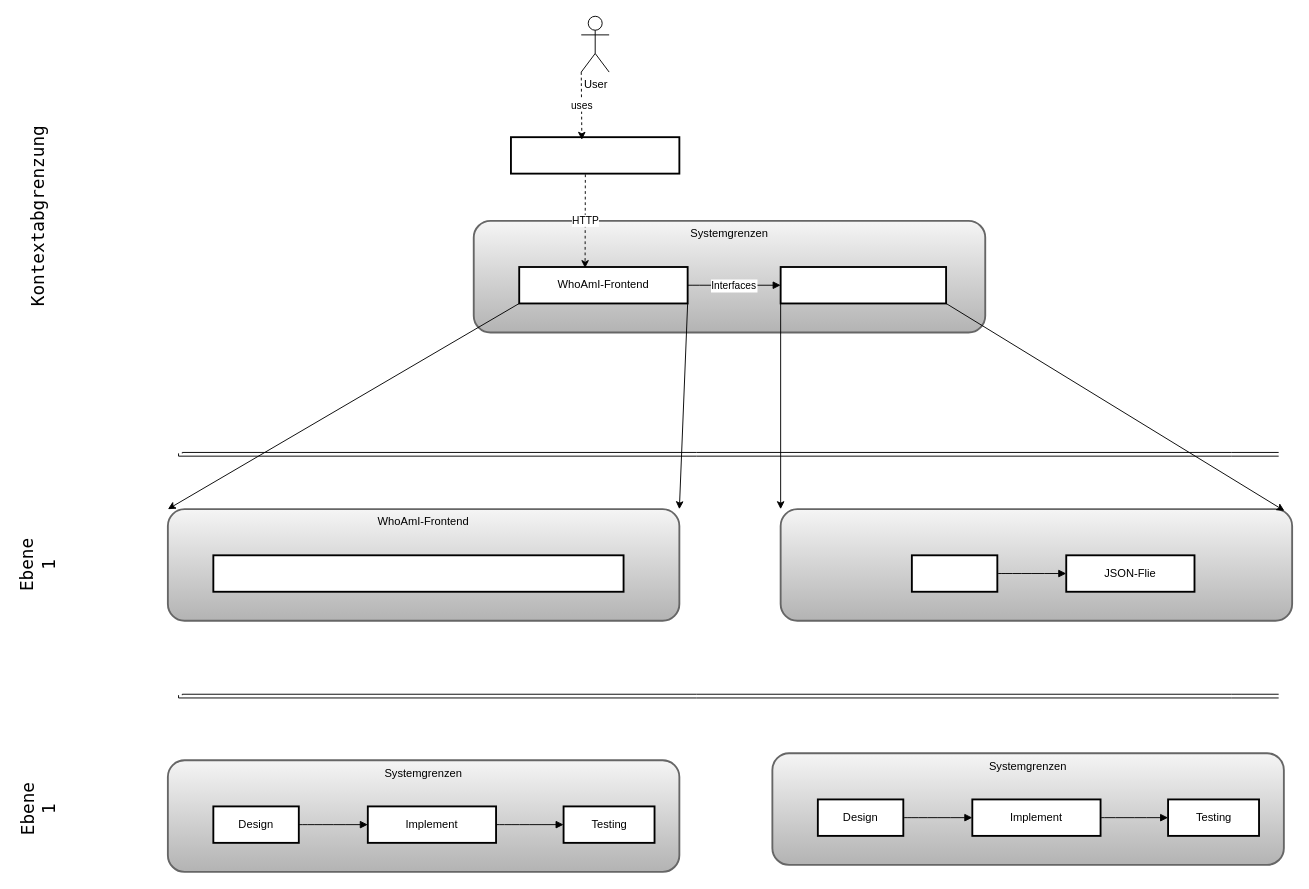
Image size: 1309x889. Some labels were removed from this diagram. Each missing label, with the box of its shape:
Browser: (510, 136, 680, 174)
Flask API: (910, 554, 998, 592)
Vaadin UI: (212, 554, 624, 592)
WAI-API: (779, 508, 1293, 621)
WAI_API: (779, 266, 947, 304)
